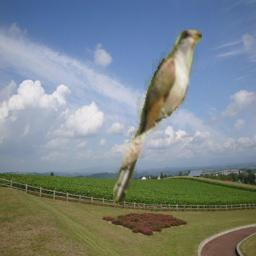Cuckoo: (113, 28, 202, 202)
